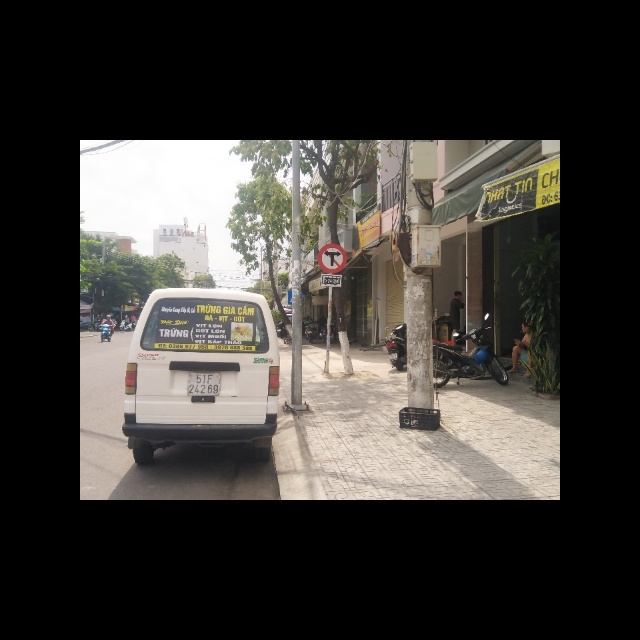Cấm rẽ trái và rẽ phải: (317, 243, 347, 274)
